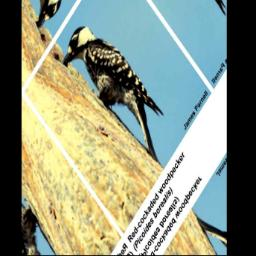Woodpecker: (56, 3, 179, 184)
